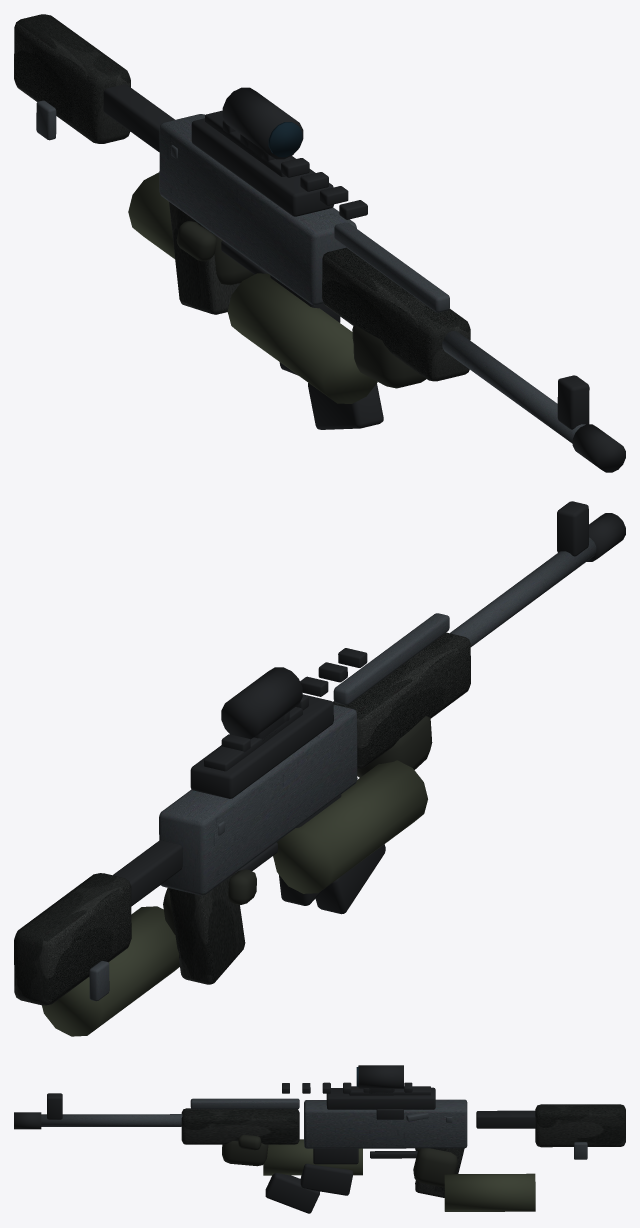
Rendered from weapon_m4.glb.
The picture shows the model from 3 angles, top to bottom: view 1: azimuth 30°, elevation 25°; view 2: azimuth 150°, elevation 25°; view 3: azimuth 270°, elevation 25°; orthographic projection. The views are drawn at different scales.
Parts seen in each view (by area): view 1: WeaponMesh; view 2: WeaponMesh; view 3: WeaponMesh.
Part boxes in pixels (x1,y1,x2,y2): WeaponMesh: (14, 14, 625, 472); WeaponMesh: (14, 501, 625, 1036); WeaponMesh: (14, 1065, 625, 1213).
Size of the model in its own units: 0.1707 by 0.3528 by 1.35.
6 materials, 2 textured.
